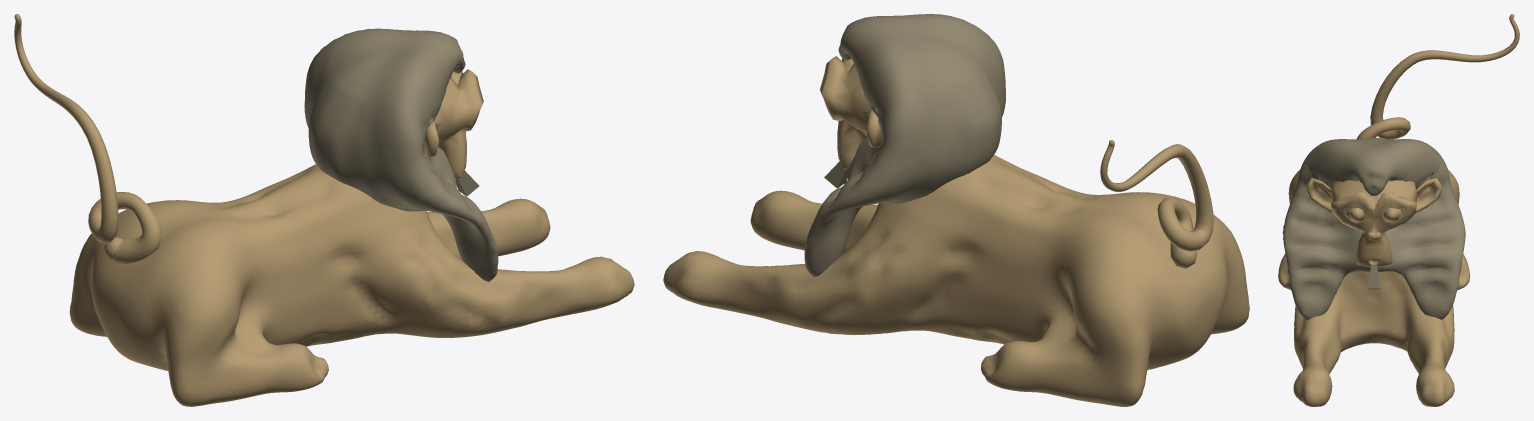
The model's file is Sphinx.fbx.
3 views of the same model, side by side, from view 1: azimuth 30°, elevation 25°; view 2: azimuth 150°, elevation 25°; view 3: azimuth 270°, elevation 25° (orthographic). The views are drawn at different scales.
Visible parts, largest first — view 1: Cube.005; view 2: Cube.005; view 3: Cube.005.
Part boxes in pixels (bbox=[...]): Cube.005: bbox=[14, 14, 634, 406]; Cube.005: bbox=[663, 14, 1249, 406]; Cube.005: bbox=[1278, 14, 1519, 406].
Bounding box in the file's own units: 4.82 × 8.35 × 4.98.
